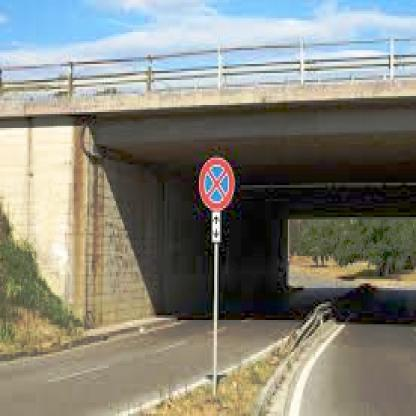No stopping: (199, 159, 234, 209)
